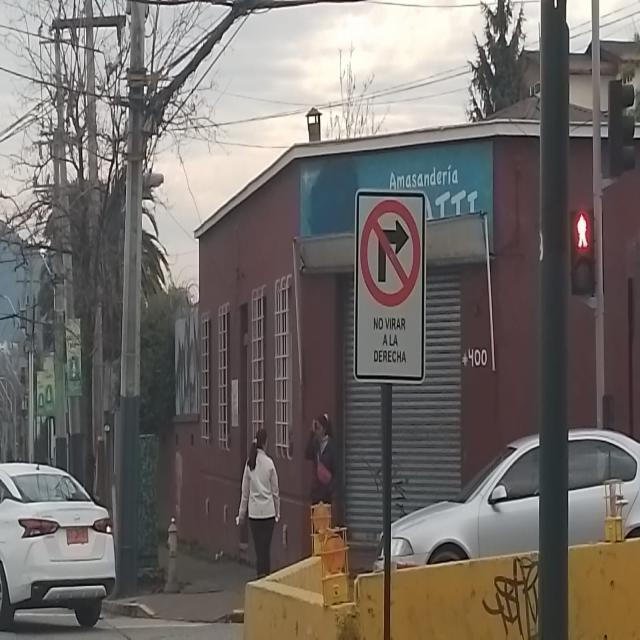person: (234, 427, 282, 578), (306, 412, 345, 502), (96, 146, 98, 152)
